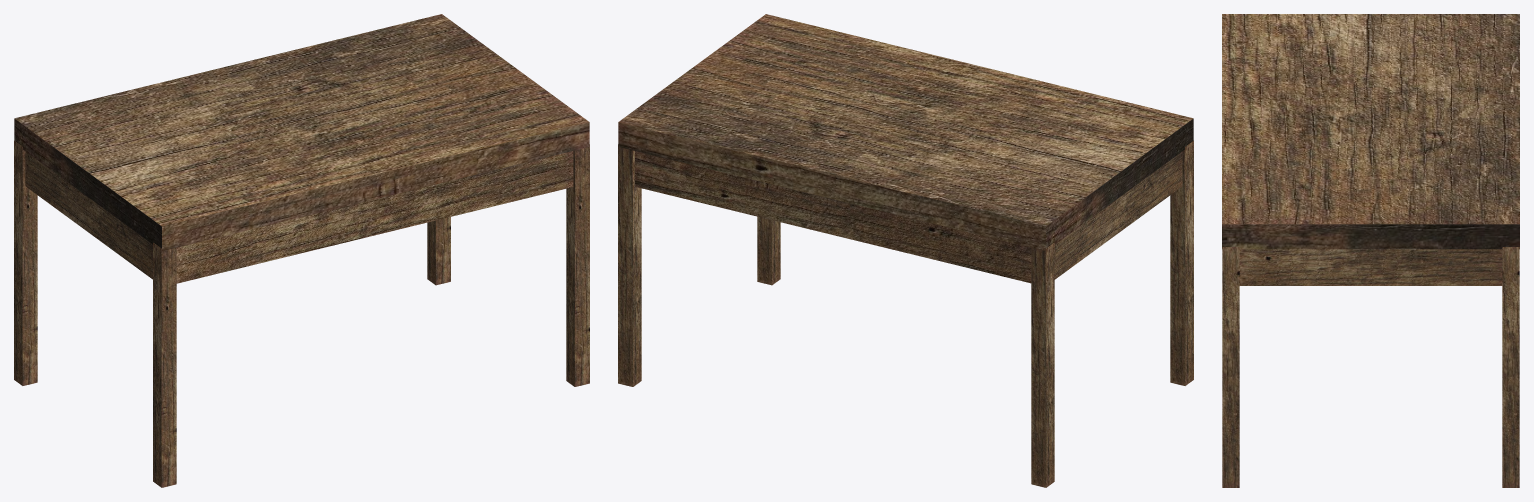
File: MesaRetangularMadeiraV2.fbx
3 renders of one model, left to right at view 1: azimuth 30°, elevation 25°; view 2: azimuth 150°, elevation 25°; view 3: azimuth 270°, elevation 25°, orthographic.
Parts seen in each view (by area): view 1: pCube1, pCube9, pCube2, pCube5, pCube3, pCube6, pCube4; view 2: pCube1, pCube8, pCube3, pCube4, pCube2, pCube6, pCube5; view 3: pCube1, pCube7, pCube4, pCube5.
Part boxes in pixels (x1,y1,x2,y2): pCube1: (14,14,589,250); pCube9: (176,151,573,283); pCube2: (153,242,176,487); pCube5: (566,144,589,386); pCube3: (14,141,37,385); pCube6: (25,151,152,279); pCube4: (427,217,450,285); pCube1: (618,14,1193,250); pCube8: (635,151,1031,283); pCube3: (1031,243,1054,487); pCube4: (618,144,641,386); pCube2: (1170,141,1193,385); pCube6: (1054,151,1182,279); pCube5: (757,216,780,285); pCube1: (1222,14,1519,249); pCube7: (1239,249,1502,285); pCube4: (1502,247,1519,487); pCube5: (1222,247,1239,487).
Bounding box in the file's own units: 1.37 × 0.8024 × 0.822.
1 material, 1 textured.
